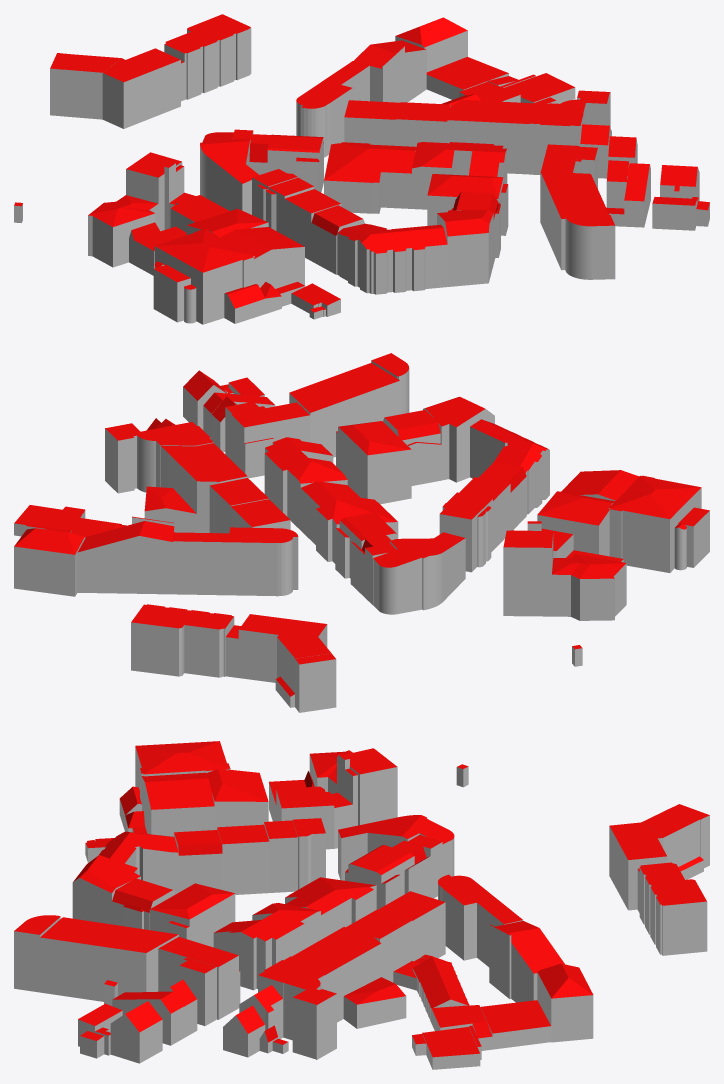
The picture shows the model from 3 angles, top to bottom: view 1: azimuth 30°, elevation 25°; view 2: azimuth 150°, elevation 25°; view 3: azimuth 270°, elevation 25°; orthographic projection. The views are drawn at different scales.
Size of the model in its own units: 203 by 25.96 by 208.
